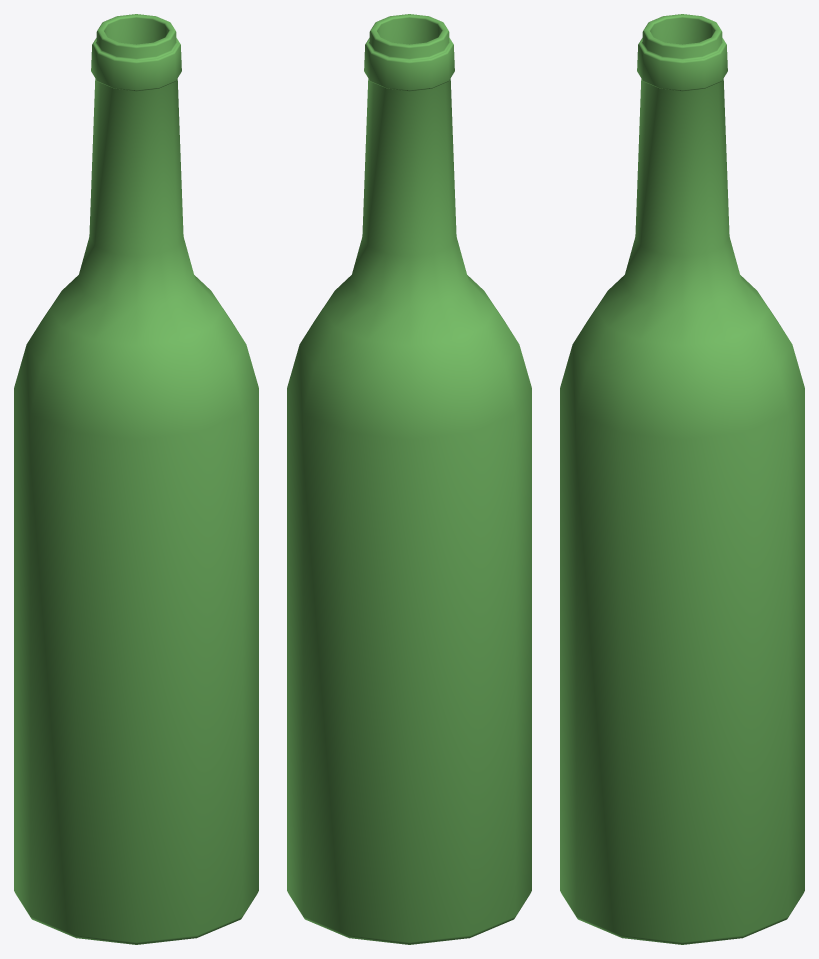
Rendered from garrafa.fbx.
3 views of the same model, side by side, from view 1: azimuth 30°, elevation 25°; view 2: azimuth 150°, elevation 25°; view 3: azimuth 270°, elevation 25° (orthographic).
Parts seen in each view (by area): view 1: garrafa.001; view 2: garrafa.001; view 3: garrafa.001.
Boxes of the visible parts, <box> form: garrafa.001: <box>14,14,258,944</box>; garrafa.001: <box>287,14,531,944</box>; garrafa.001: <box>560,14,804,944</box>.
Size of the model in its own units: 19.35 by 75.44 by 19.35.
